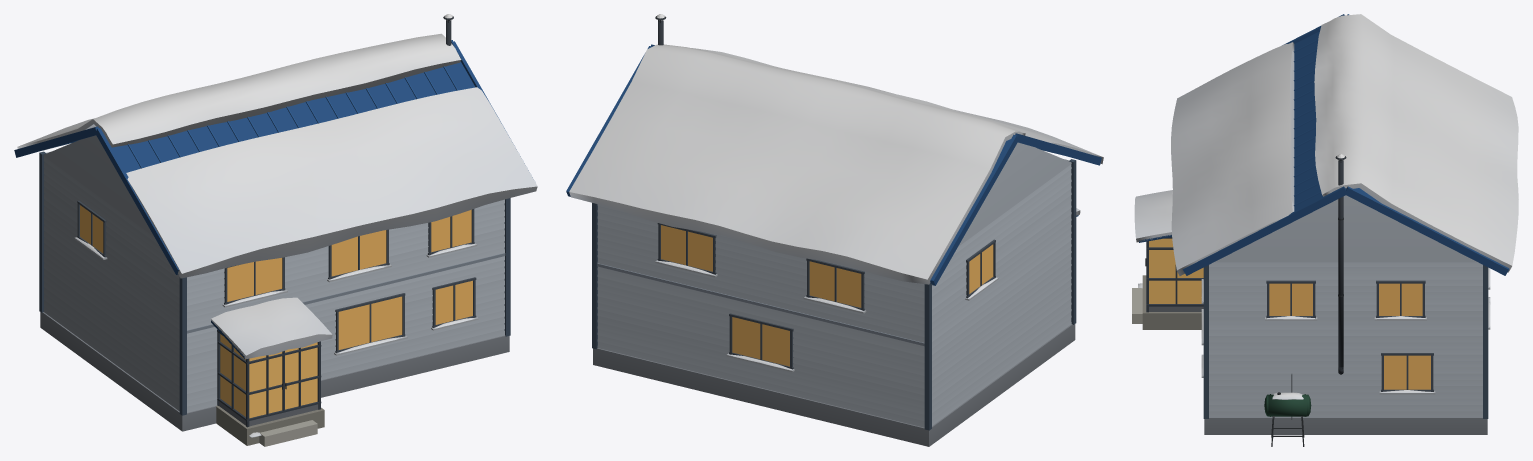
Rendered from house_blue.glb.
The picture shows the model from 3 angles, left to right: view 1: azimuth 30°, elevation 25°; view 2: azimuth 150°, elevation 25°; view 3: azimuth 270°, elevation 25°; orthographic projection. The views are drawn at different scales.
Visible parts, largest first — view 1: house_blue; view 2: house_blue; view 3: house_blue.
Boxes of the visible parts, x1,y1,x2,y2 form: house_blue: (14, 14, 537, 446); house_blue: (566, 14, 1103, 446); house_blue: (1132, 14, 1518, 446).
Bounding box in the file's own units: 12.7 × 9.44 × 11.63.
